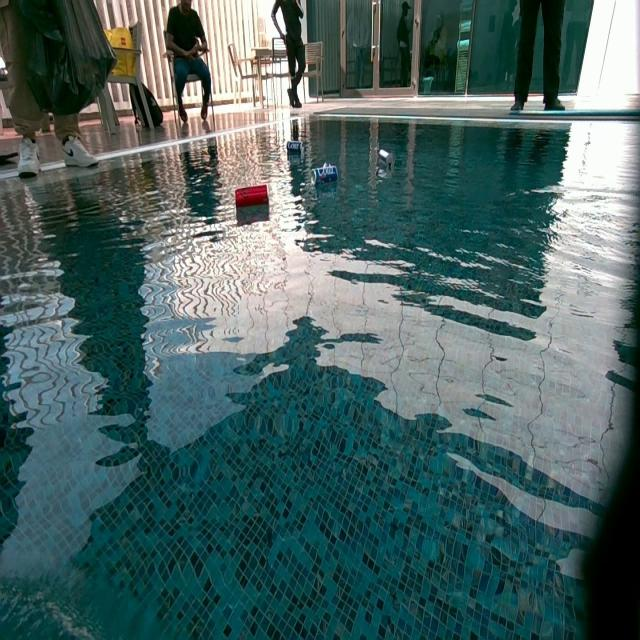Cans: (235, 187, 268, 209), (311, 164, 337, 186), (375, 149, 393, 171), (286, 140, 302, 154)
